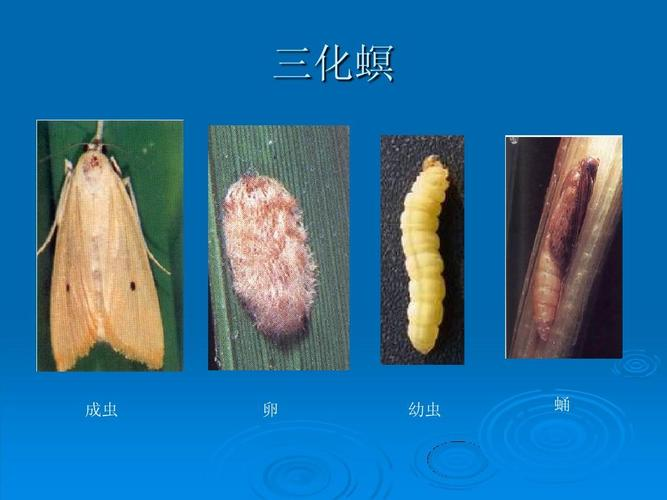Crambidae: (42, 123, 174, 373)
